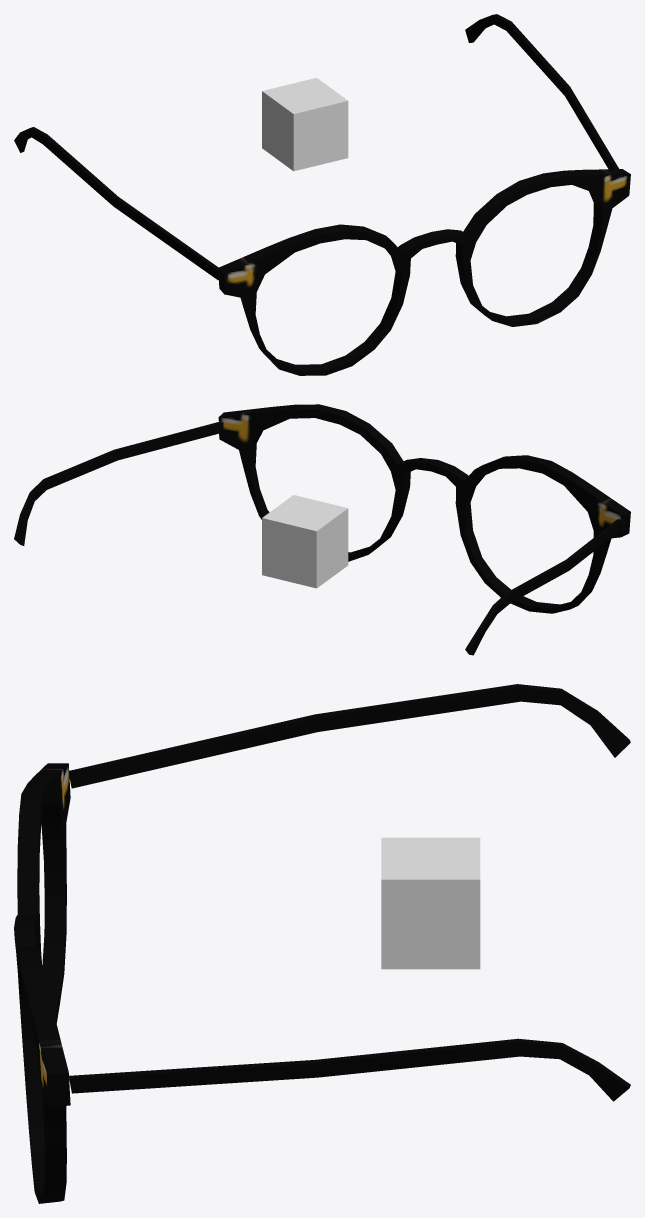
File: boy_glasses10.FBX
The picture shows the model from 3 angles, top to bottom: view 1: azimuth 30°, elevation 25°; view 2: azimuth 150°, elevation 25°; view 3: azimuth 270°, elevation 25°; orthographic projection. The views are drawn at different scales.
Parts seen in each view (by area): view 1: boy_glasses07, faceSpawn; view 2: boy_glasses07, faceSpawn; view 3: boy_glasses07, faceSpawn.
Boxes of the visible parts, <box> form: boy_glasses07: <box>14,14,630,375</box>; faceSpawn: <box>262,77,348,171</box>; boy_glasses07: <box>14,404,630,655</box>; faceSpawn: <box>262,495,348,588</box>; boy_glasses07: <box>14,684,630,1203</box>; faceSpawn: <box>381,837,480,969</box>.
Size of the model in its own units: 42.8 by 14.09 by 31.17.
